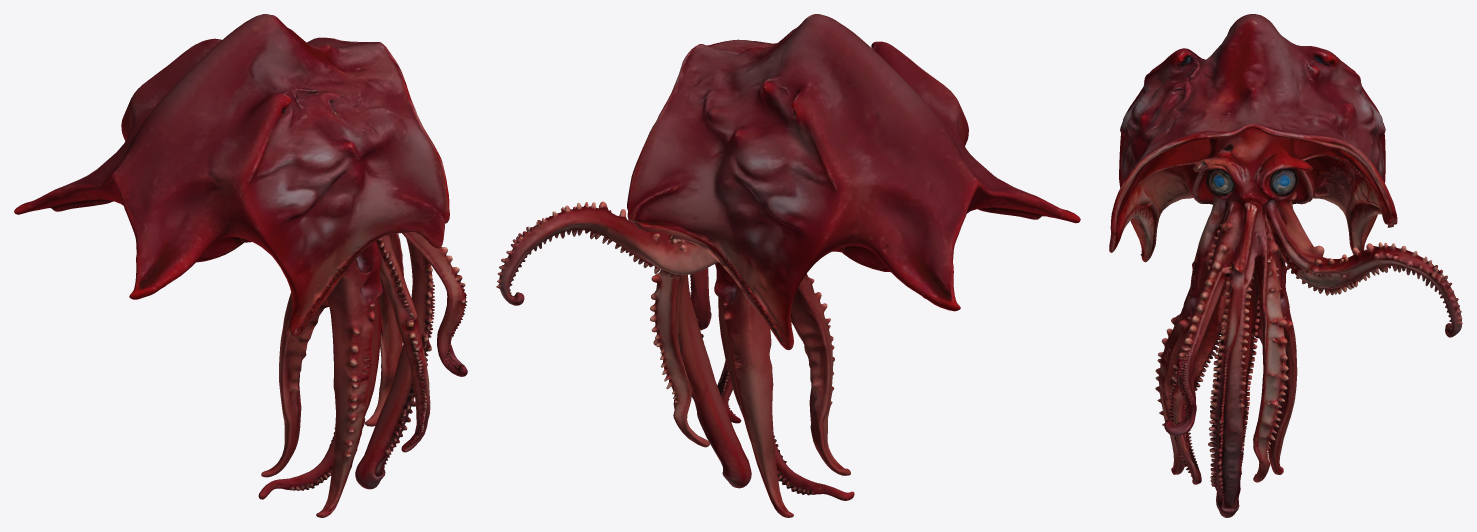
The model's file is vampire.glb.
3 views of the same model, side by side, from view 1: azimuth 30°, elevation 25°; view 2: azimuth 150°, elevation 25°; view 3: azimuth 270°, elevation 25° (orthographic). The views are drawn at different scales.
Parts seen in each view (by area): view 1: tripo_node_32c2f942-4f5b-421f-a859-b7fa6634e2e0; view 2: tripo_node_32c2f942-4f5b-421f-a859-b7fa6634e2e0; view 3: tripo_node_32c2f942-4f5b-421f-a859-b7fa6634e2e0.
Boxes of the visible parts, <box> form: tripo_node_32c2f942-4f5b-421f-a859-b7fa6634e2e0: <box>14,14,467,517</box>; tripo_node_32c2f942-4f5b-421f-a859-b7fa6634e2e0: <box>496,14,1080,517</box>; tripo_node_32c2f942-4f5b-421f-a859-b7fa6634e2e0: <box>1109,14,1462,517</box>.
Bounding box in the file's own units: 0.8314 × 0.9788 × 0.6848.
Materials: 1 (1 with a texture image).
